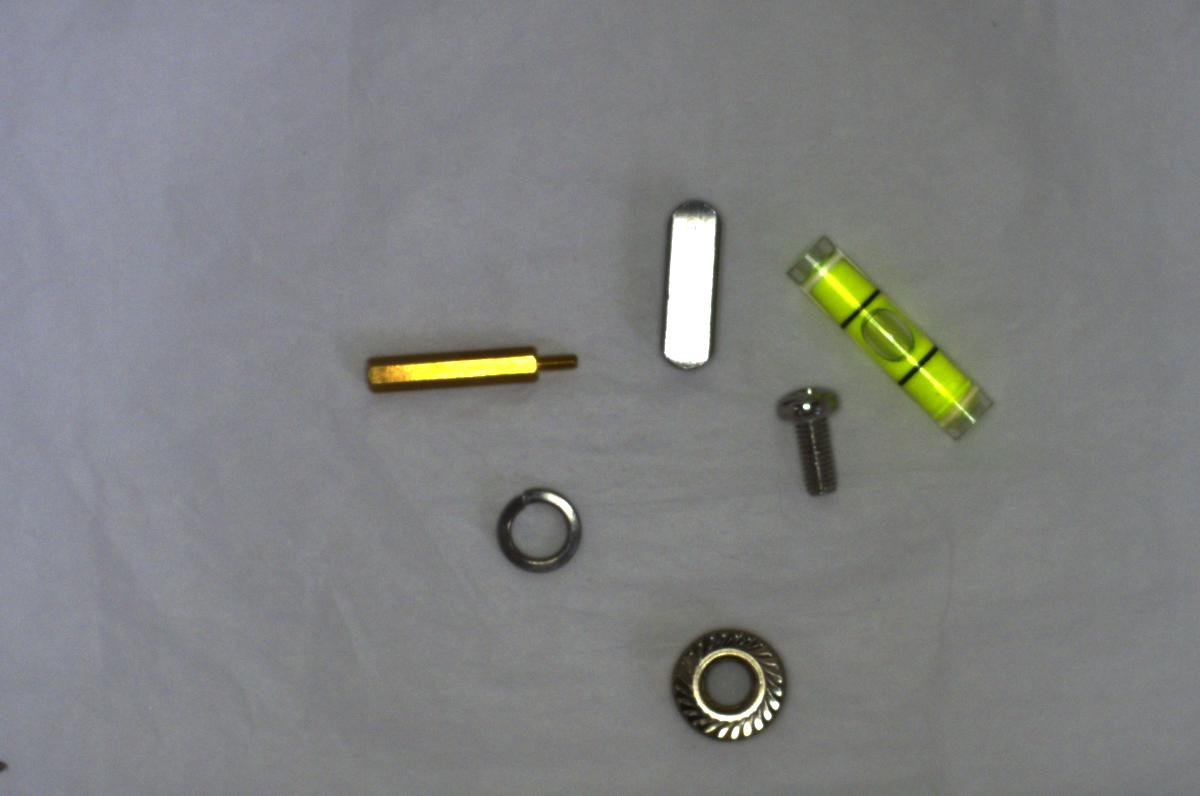Flange nut: (661, 613, 797, 747)
Hexagon pillar: (362, 338, 587, 403)
Horizontal bubble: (779, 230, 997, 440)
Keybar: (651, 195, 726, 373)
Round head screw: (770, 375, 854, 505)
Spring washer: (492, 481, 585, 572)
